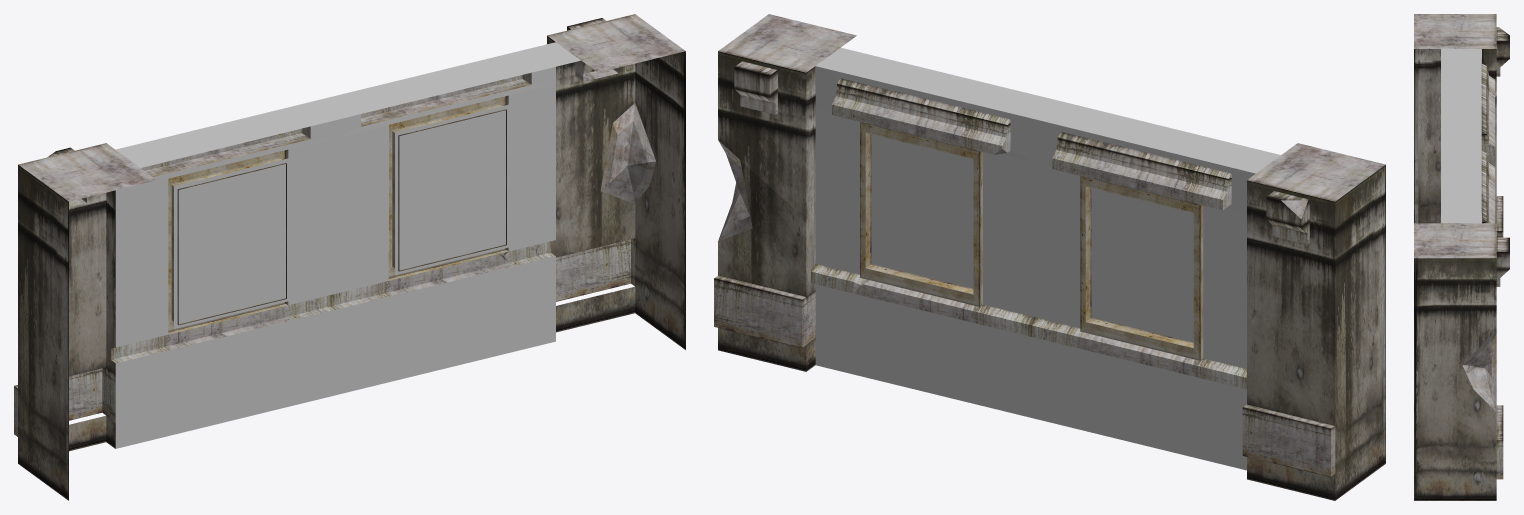
Rendered from Store_front_2_A.fbx.
The picture shows the model from 3 angles, left to right: view 1: azimuth 30°, elevation 25°; view 2: azimuth 150°, elevation 25°; view 3: azimuth 270°, elevation 25°; orthographic projection. The views are drawn at different scales.
Parts seen in each view (by area): view 1: Store_front_2_A; view 2: Store_front_2_A; view 3: Store_front_2_A.
Boxes of the visible parts, bbox=[...] form: Store_front_2_A: bbox=[14, 14, 685, 500]; Store_front_2_A: bbox=[714, 14, 1385, 500]; Store_front_2_A: bbox=[1414, 14, 1509, 500].
Bounding box in the file's own units: 700 × 325 × 116.
